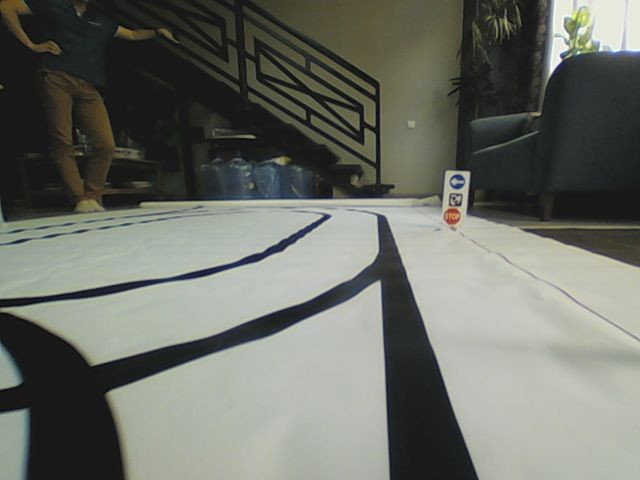Stop: (442, 207, 461, 225)
